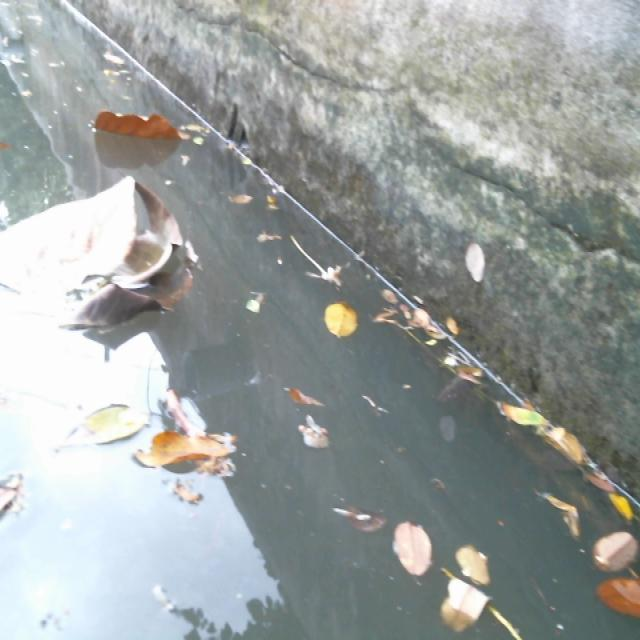Big-leaf: (36, 179, 206, 356), (139, 385, 262, 502), (83, 93, 187, 155)
Small-leaf: (385, 511, 451, 588), (50, 393, 135, 452), (445, 516, 506, 594), (430, 564, 488, 640), (489, 391, 557, 446), (585, 521, 640, 578), (578, 468, 637, 521), (590, 563, 640, 624), (324, 299, 371, 358), (545, 419, 595, 474), (326, 491, 383, 532), (275, 376, 325, 414), (408, 294, 444, 332), (238, 285, 263, 321), (220, 183, 252, 207)
